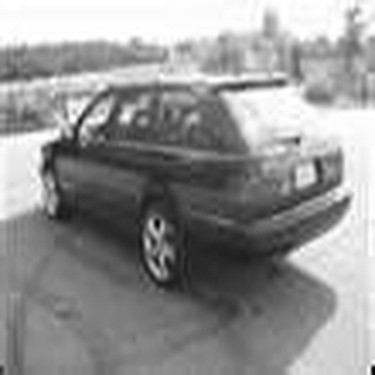car: (17, 62, 358, 286)
